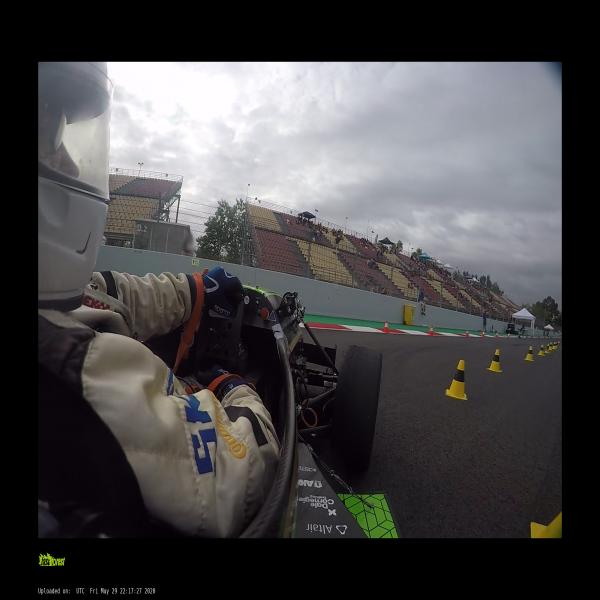orange_cone: (383, 320, 389, 332), (429, 325, 434, 336), (466, 329, 468, 338), (482, 330, 484, 338), (496, 331, 498, 338), (508, 332, 510, 338)
yellow_cone: (446, 360, 468, 400), (531, 512, 562, 538), (487, 349, 502, 373), (524, 346, 534, 361), (537, 344, 545, 356), (544, 343, 550, 353), (549, 342, 552, 350), (553, 341, 555, 350), (556, 341, 558, 349)
